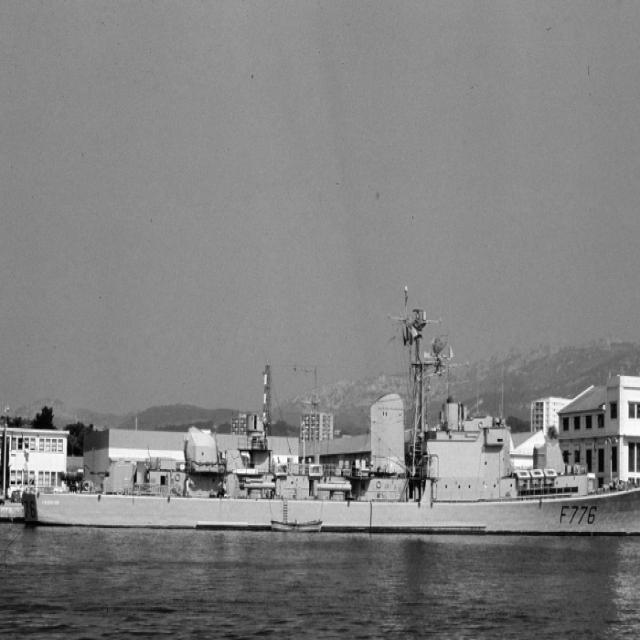Fragata: (19, 286, 640, 541)
